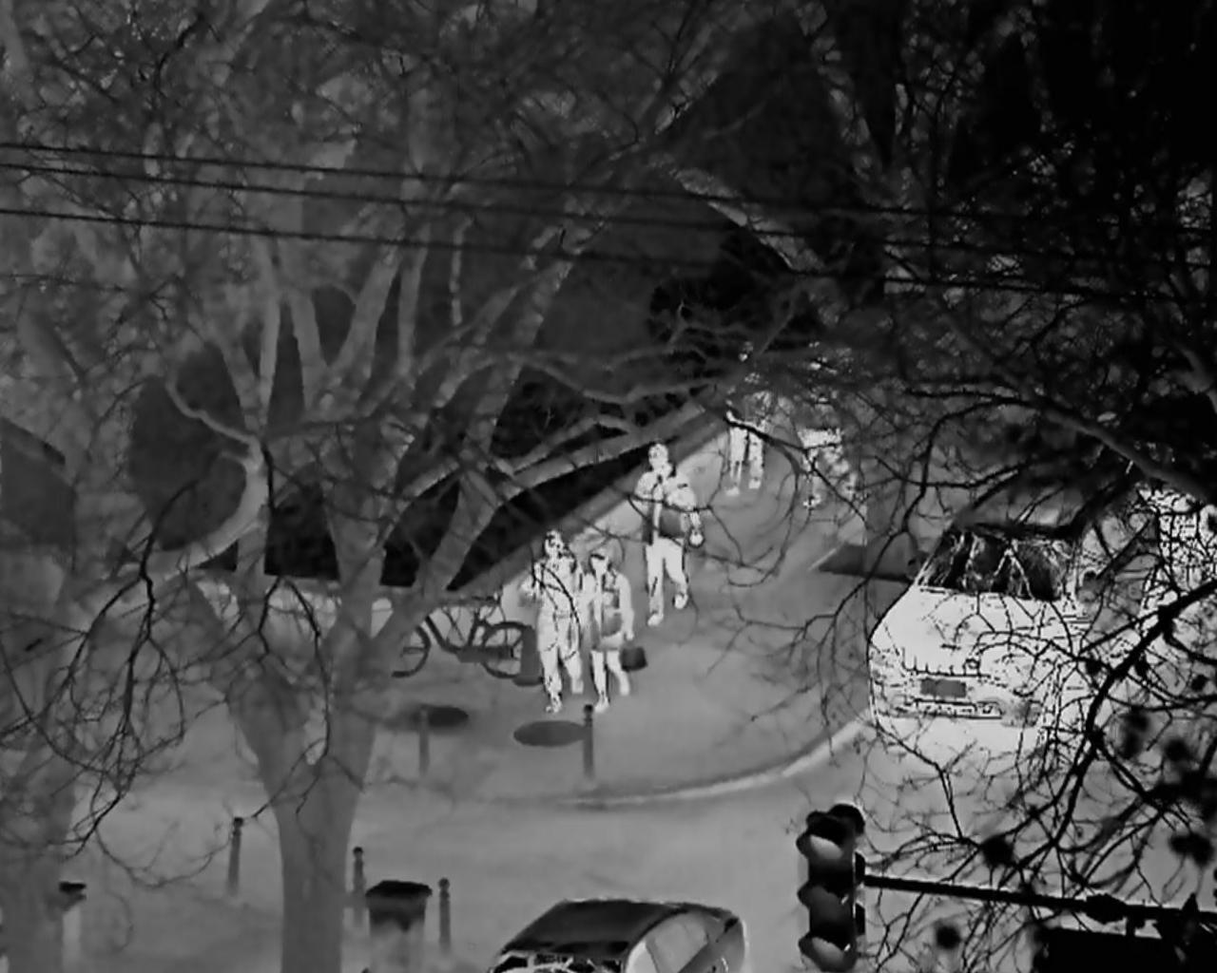person: (525, 530, 584, 714), (582, 548, 637, 713), (642, 473, 692, 629), (725, 391, 770, 496)
